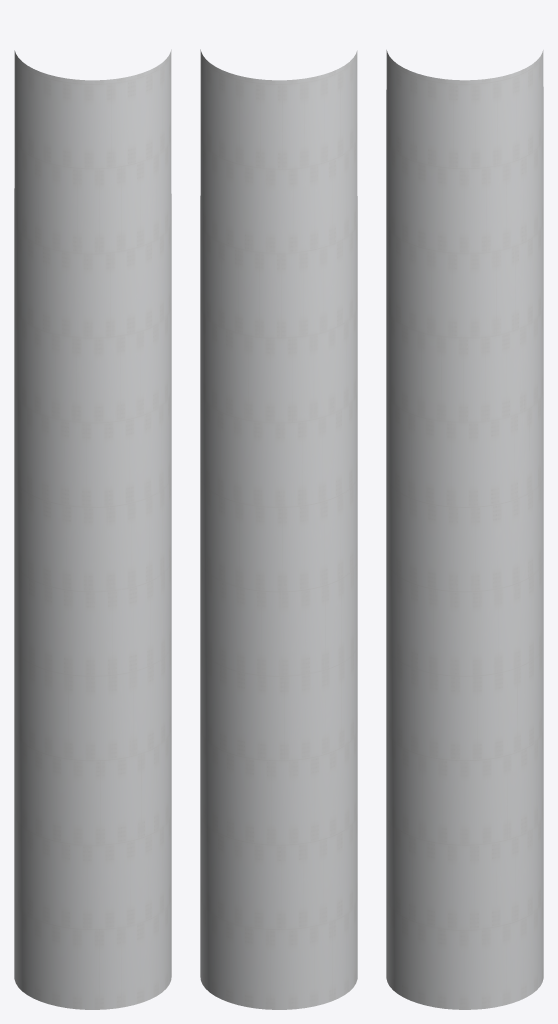
The model's file is Column2_Thermo.gltf.
The picture shows the model from 3 angles, left to right: view 1: azimuth 30°, elevation 25°; view 2: azimuth 150°, elevation 25°; view 3: azimuth 270°, elevation 25°; orthographic projection.
Visible parts, largest first — view 1: Thermo; view 2: Thermo; view 3: Thermo.
Boxes of the visible parts, x1,y1,x2,y2 form: Thermo: [14, 49, 171, 1009]; Thermo: [200, 49, 357, 1009]; Thermo: [386, 50, 543, 1009].
Bounding box in the file's own units: 6.82 × 44.48 × 6.82.
Materials: 1 (1 with a texture image).
